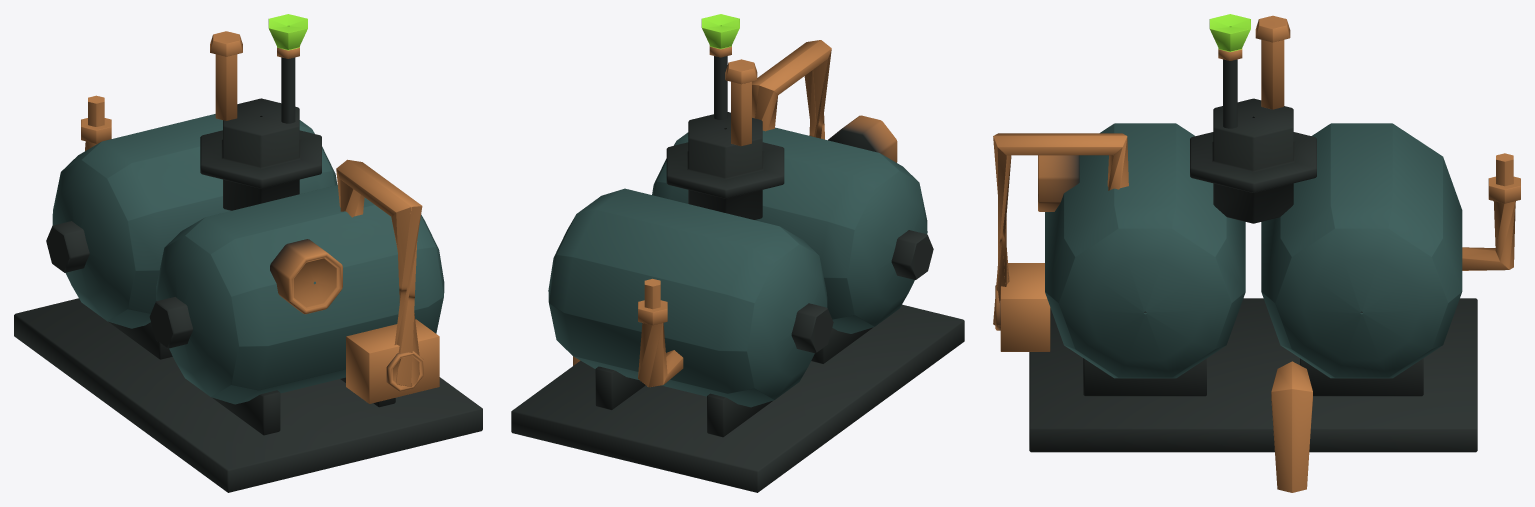
Rendered from lift_platform_pump.glb.
3 views of the same model, side by side, from view 1: azimuth 30°, elevation 25°; view 2: azimuth 150°, elevation 25°; view 3: azimuth 270°, elevation 25° (orthographic). The views are drawn at different scales.
Visible parts, largest first — view 1: Pump, Frame; view 2: Pump, Frame; view 3: Pump, Frame.
Boxes of the visible parts, x1,y1,x2,y2 form: Pump: (52, 14, 444, 404); Frame: (14, 57, 482, 492); Pump: (548, 14, 927, 407); Frame: (511, 56, 964, 492); Pump: (993, 14, 1520, 492); Frame: (995, 59, 1477, 452).
Bounding box in the file's own units: 4.54 × 5.8 × 6.83.
